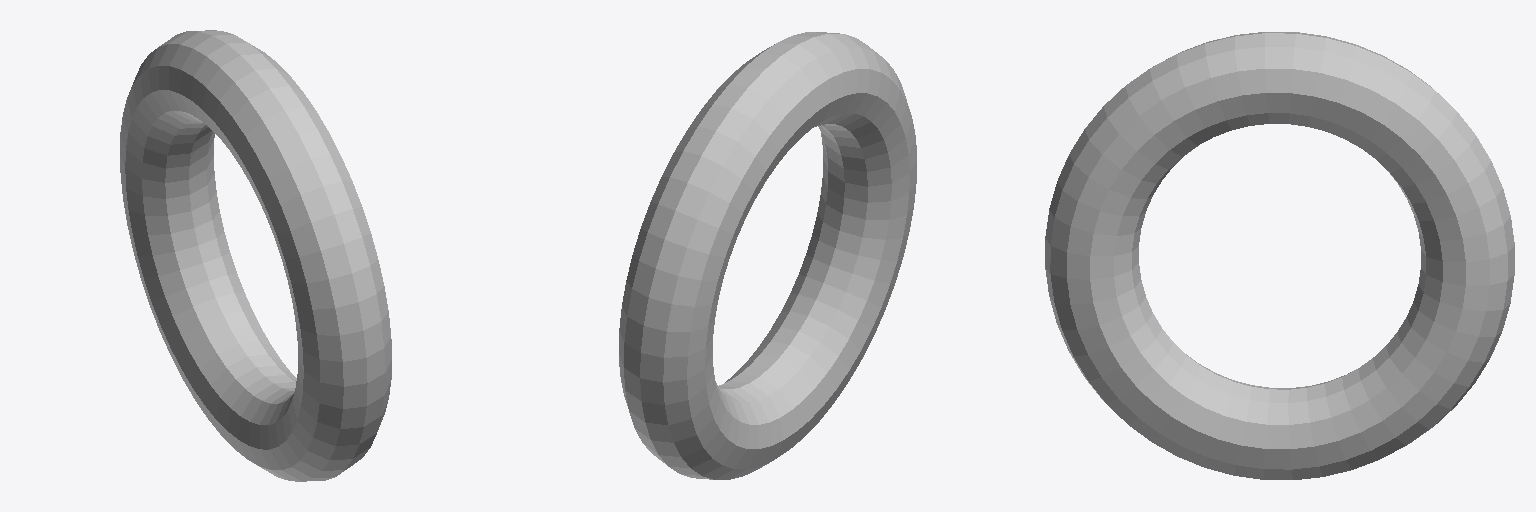
File: portal.obj
The picture shows the model from 3 angles: view 1: azimuth 30°, elevation 25°; view 2: azimuth 150°, elevation 25°; view 3: azimuth 270°, elevation 25°; orthographic projection.
Visible parts, largest first — view 1: Torus; view 2: Torus; view 3: Torus.
Part boxes in pixels (left/top/right/bottom): Torus: left=120, top=30, right=391, bottom=481; Torus: left=619, top=32, right=916, bottom=479; Torus: left=1045, top=32, right=1514, bottom=479.
Bounding box in the file's own units: 0.7298 × 2.48 × 2.49.